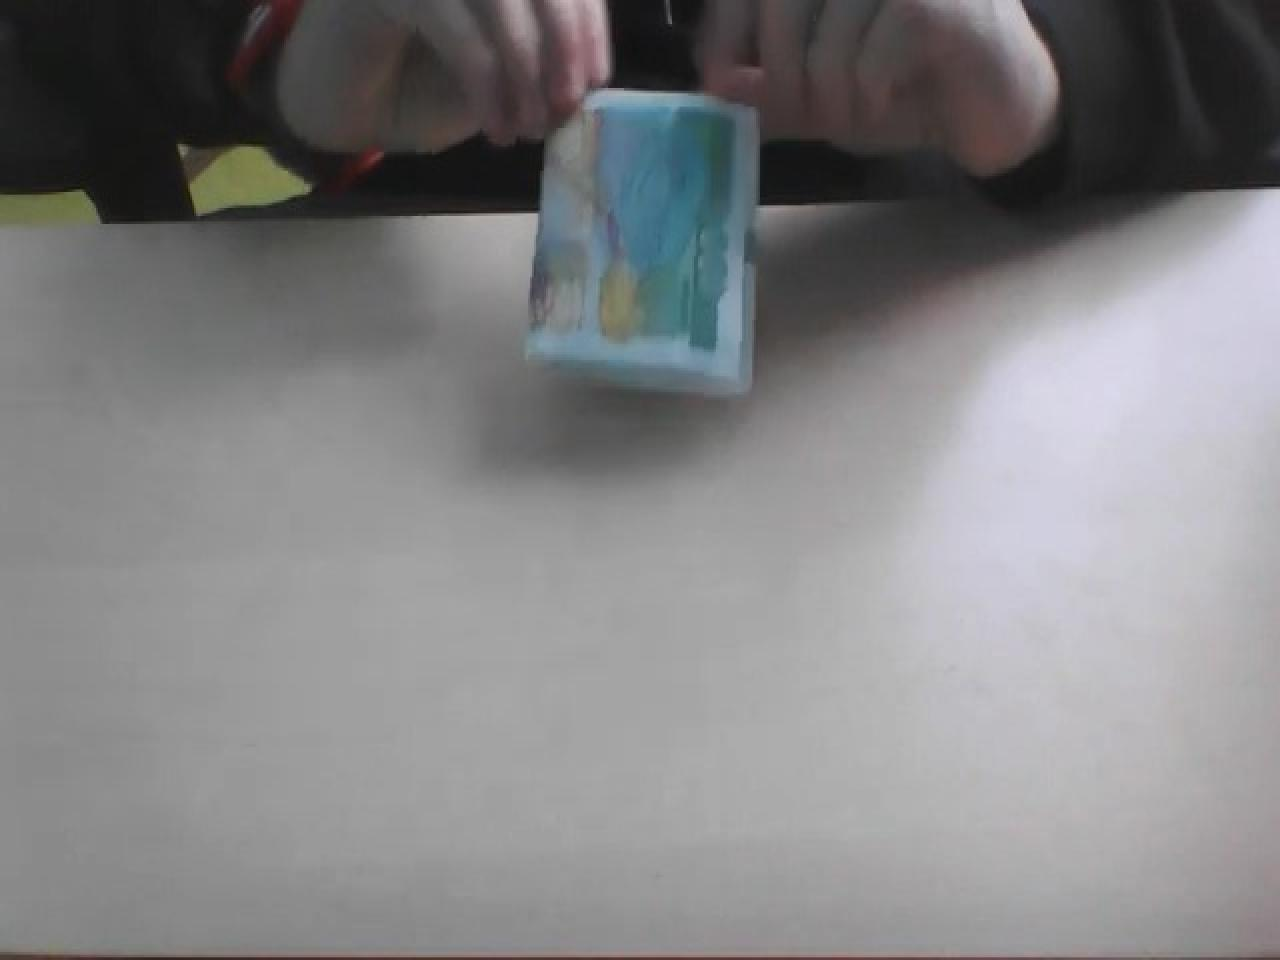100leva: (522, 88, 760, 400)
